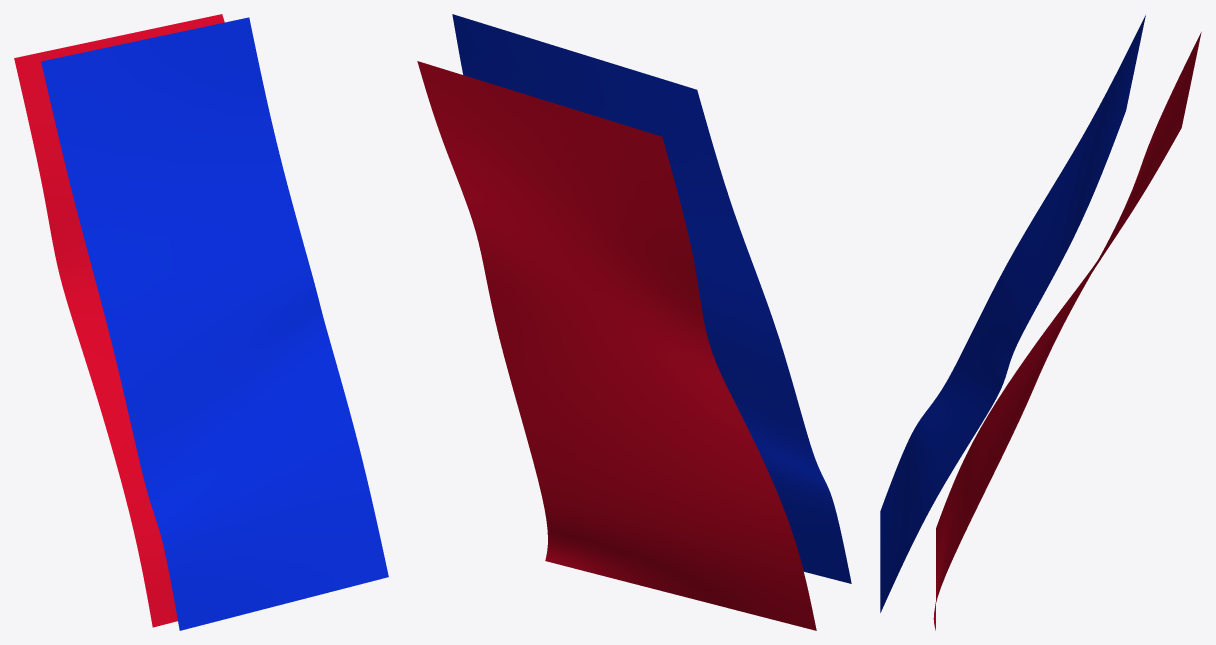
Rendered from 02_03 Planes.glb.
3 renders of one model, left to right at view 1: azimuth 30°, elevation 25°; view 2: azimuth 150°, elevation 25°; view 3: azimuth 270°, elevation 25°, orthographic. The views are drawn at different scales.
Parts seen in each view (by area): view 1: Plane, Plane.001; view 2: Plane.001, Plane; view 3: Plane, Plane.001.
Part boxes in pixels (left/top/right/bottom): Plane: left=41, top=17, right=388, bottom=630; Plane.001: left=14, top=14, right=224, bottom=627; Plane.001: left=417, top=61, right=816, bottom=630; Plane: left=452, top=14, right=851, bottom=583; Plane: left=880, top=15, right=1145, bottom=612; Plane.001: left=933, top=32, right=1201, bottom=630.
Bounding box in the file's own units: 0.5906 × 1.28 × 0.728.
